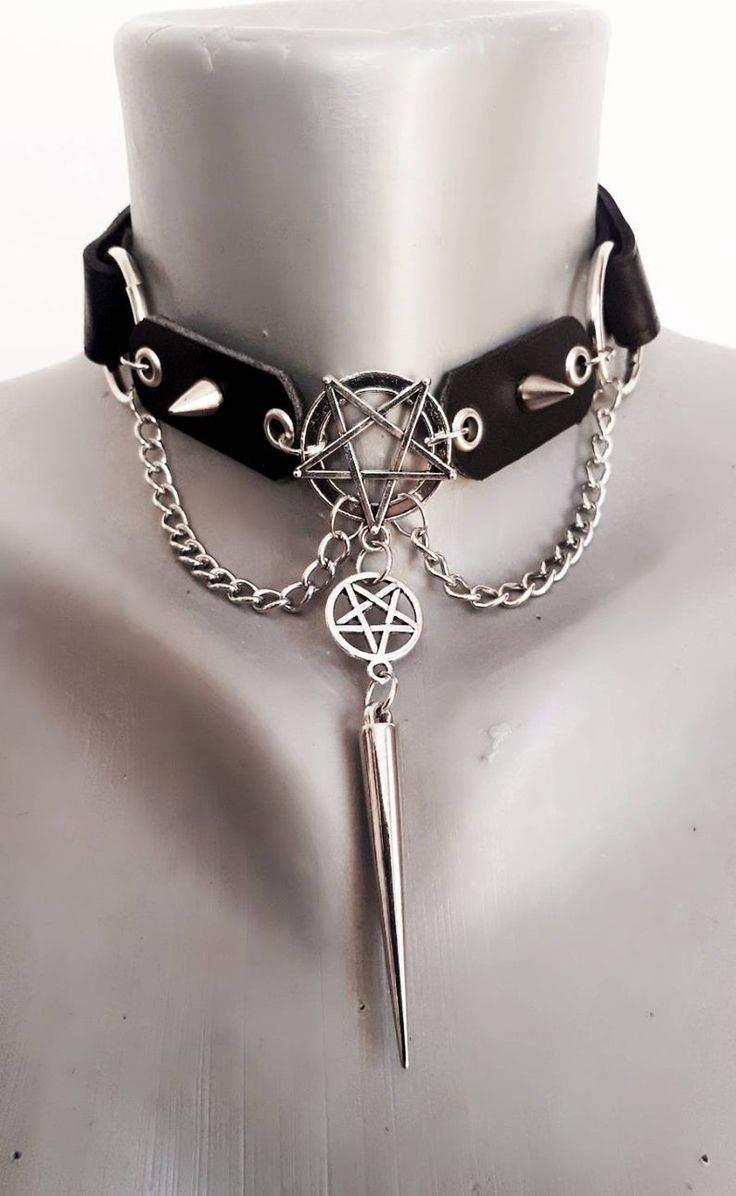cuero: (80, 182, 661, 482)
